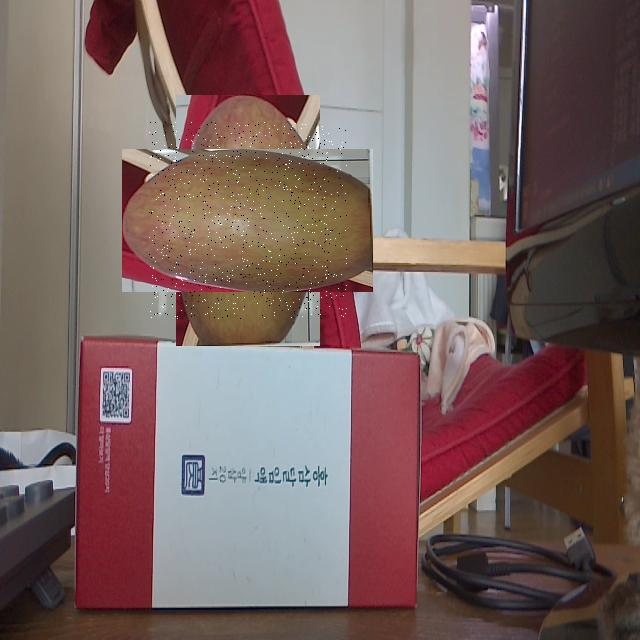apple: (149, 122, 347, 319)
